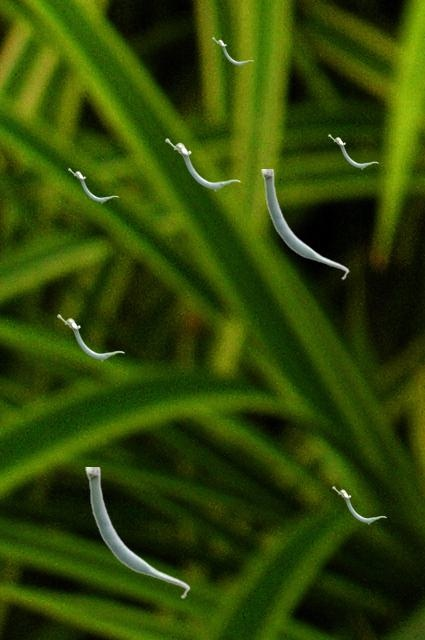french_bean: (85, 467, 189, 598), (261, 169, 348, 279), (165, 138, 239, 190), (57, 314, 123, 360), (332, 486, 385, 523), (328, 134, 377, 168), (68, 168, 117, 202), (212, 37, 252, 65)
